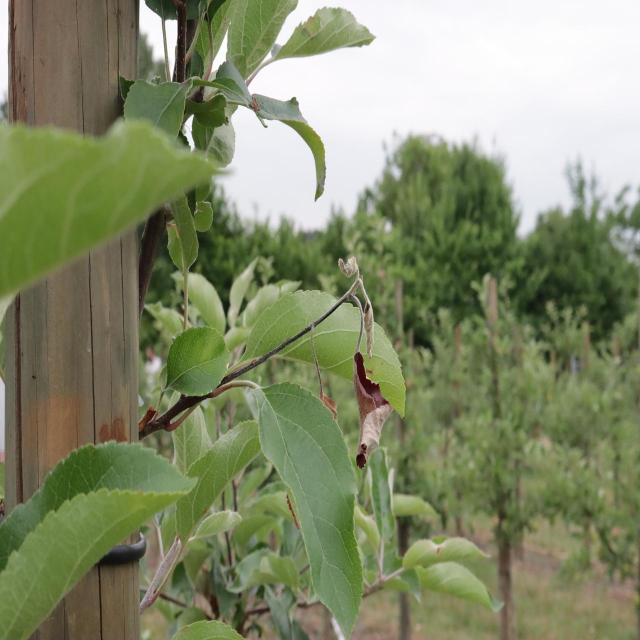-FireBlight-: (338, 257, 401, 465)
